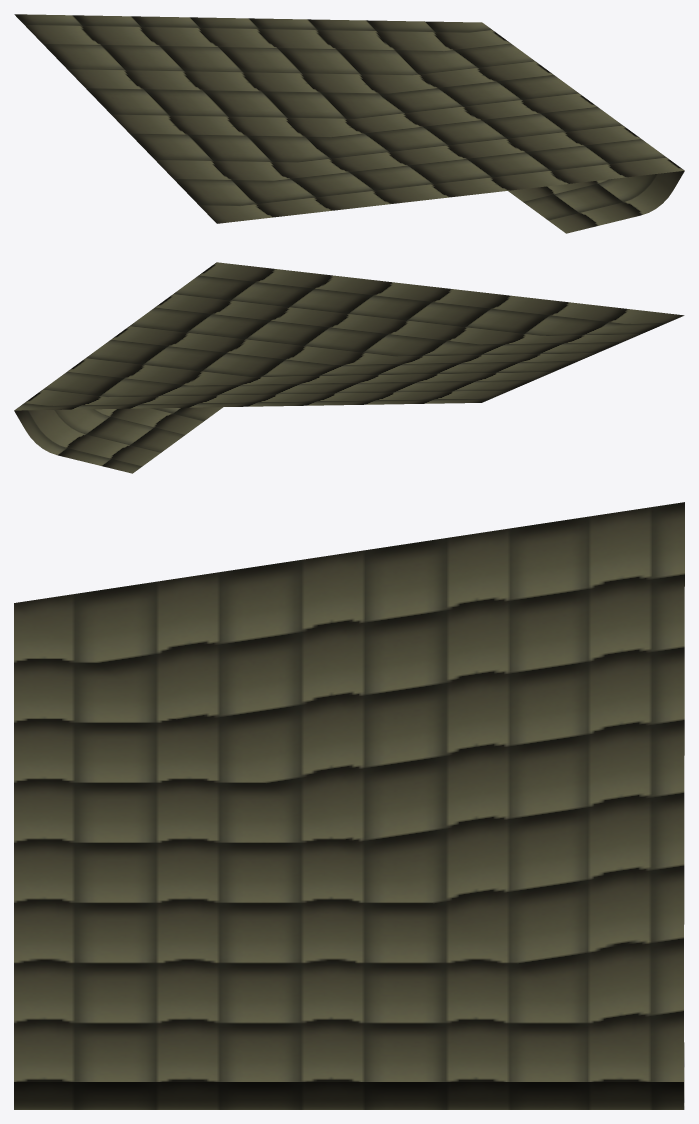
Rendered from NNJ0510056.fbx.
3 views of the same model, one above another, from view 1: azimuth 30°, elevation 25°; view 2: azimuth 150°, elevation 25°; view 3: azimuth 270°, elevation 25° (orthographic). The views are drawn at different scales.
Visible parts, largest first — view 1: smNNJ0510056; view 2: smNNJ0510056; view 3: smNNJ0510056.
Part boxes in pixels (<box>): smNNJ0510056: <box>14,14,684,233</box>; smNNJ0510056: <box>14,262,684,473</box>; smNNJ0510056: <box>14,502,684,1109</box>.
Size of the model in its own units: 369 by 117 by 277.
Materials: 1 (1 with a texture image).
